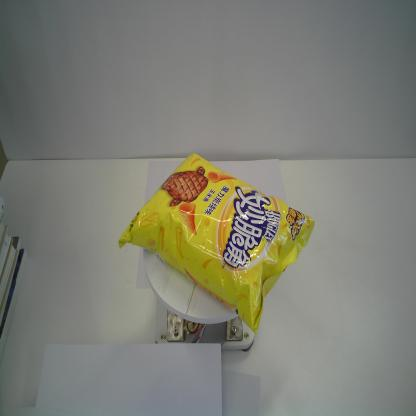Puffed Food: (118, 152, 315, 335)
